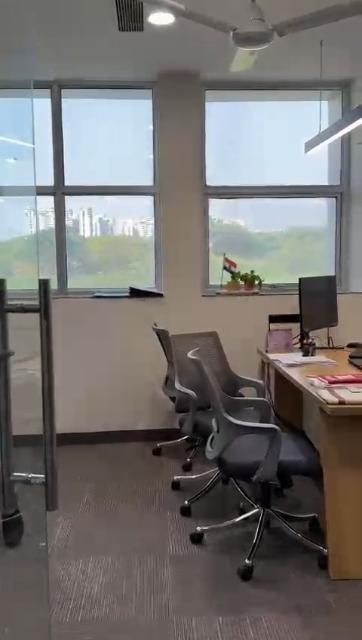floor: (62, 439, 156, 629), (158, 572, 352, 638)
object: (168, 380, 322, 560), (159, 323, 269, 459), (287, 262, 347, 350)
wall: (151, 34, 202, 328), (53, 301, 157, 427), (5, 7, 112, 73), (275, 39, 362, 82), (204, 303, 264, 333), (235, 307, 259, 375), (340, 286, 360, 340)
